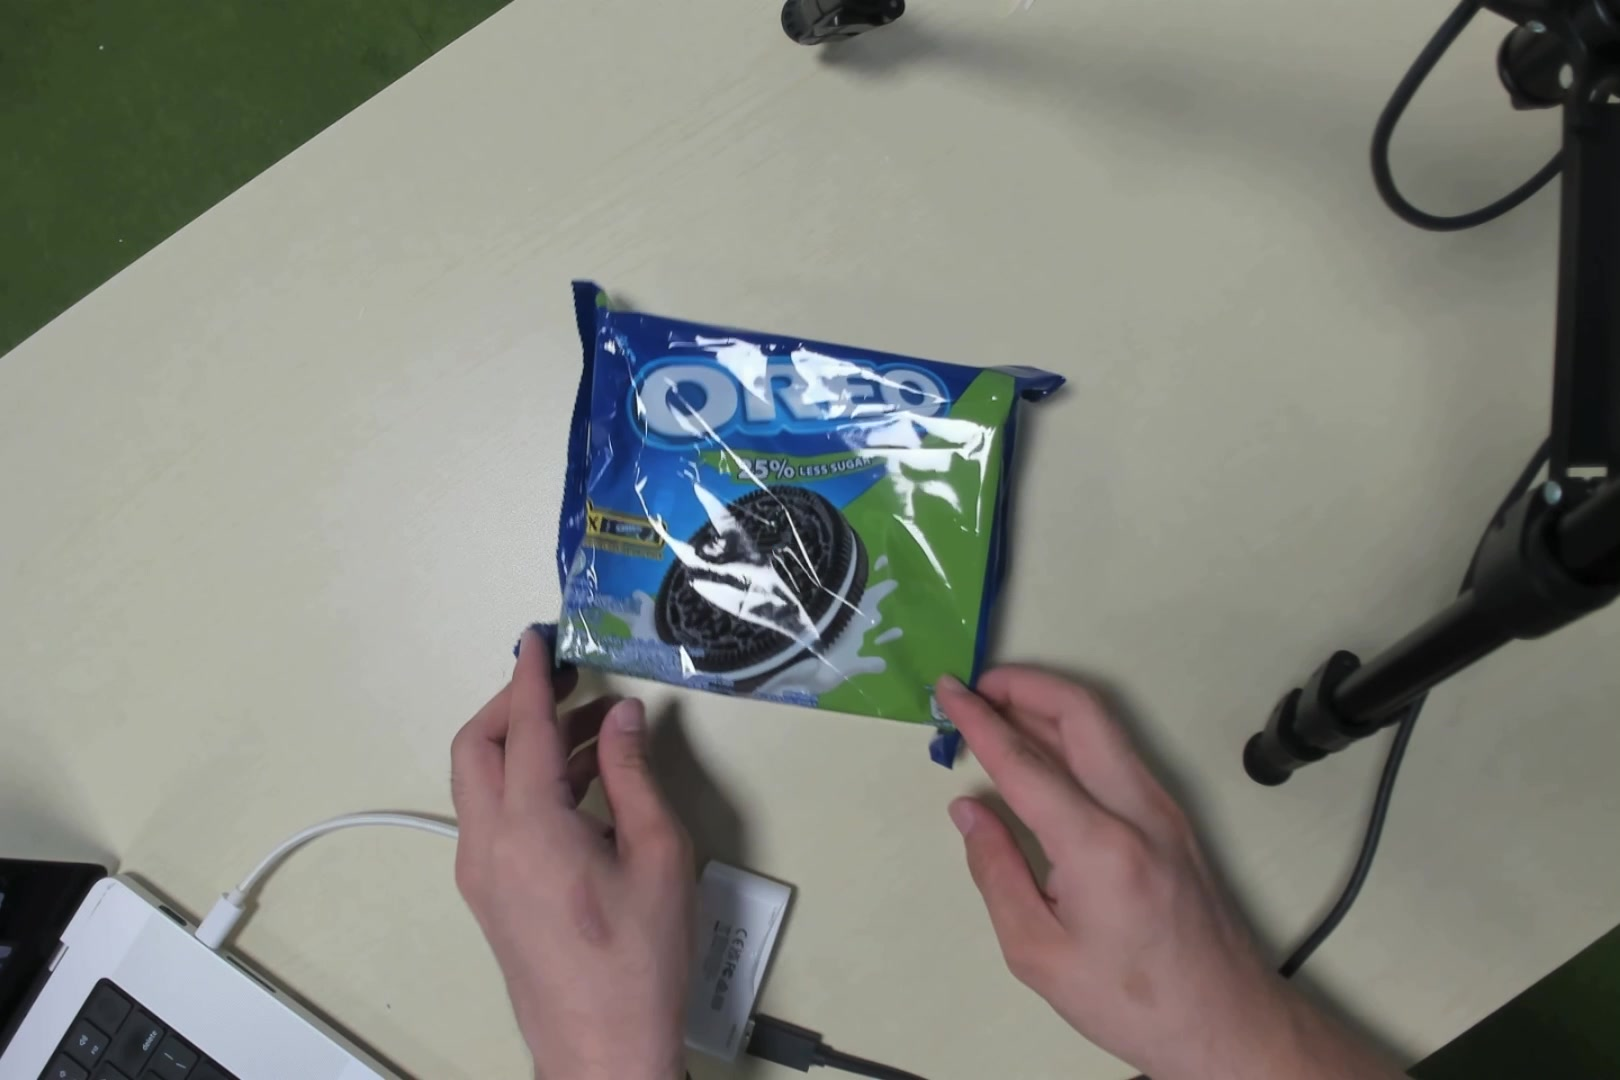SweetsChocolatesOthers_200-299g_Halal_NonHealthy: (576, 295, 1022, 729)
